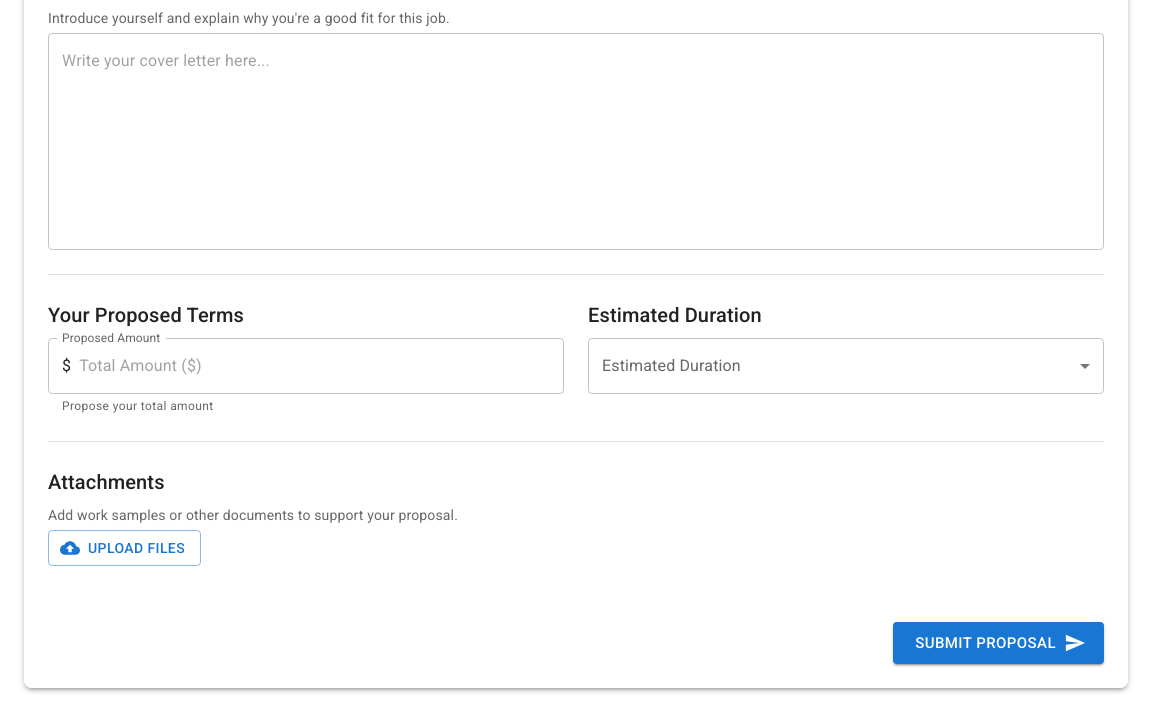
SubmitProposalPage Component › validates form inputs
(page scrolled)
# Try to submit the form without filling in the fields
Click the button "Submit Proposal" at (999, 643), box [893,622,1104,664]
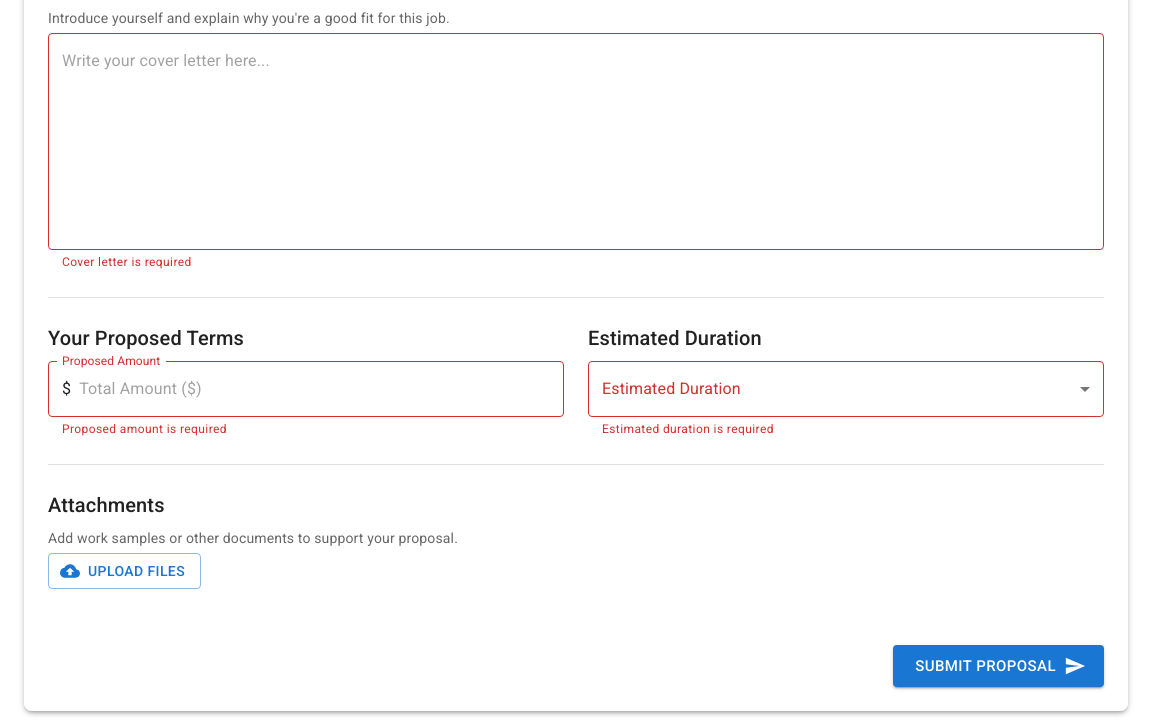
Expected: the text "Cover letter is required" is shown, [62,255,192,269]
Expected: the text "Proposed amount is required" is shown, [62,422,227,436]
Expected: the text "Estimated duration is required" is shown, [602,422,774,436]
# Fill in the cover letter with insufficient text
Type "Short cover letter" into the text box with placeholder "Write your cover letter here..." at (576, 141), box [62,49,1090,233]
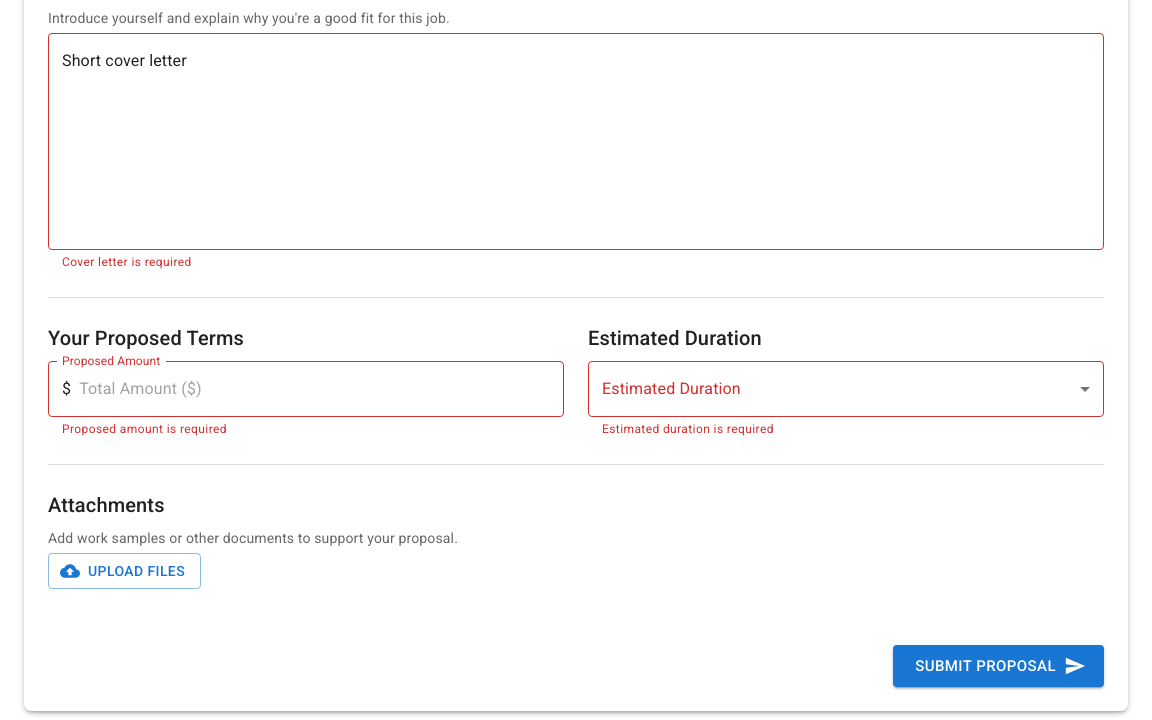
# Try to submit the form again
Click the button "Submit Proposal" at (999, 666), box [893,645,1104,687]
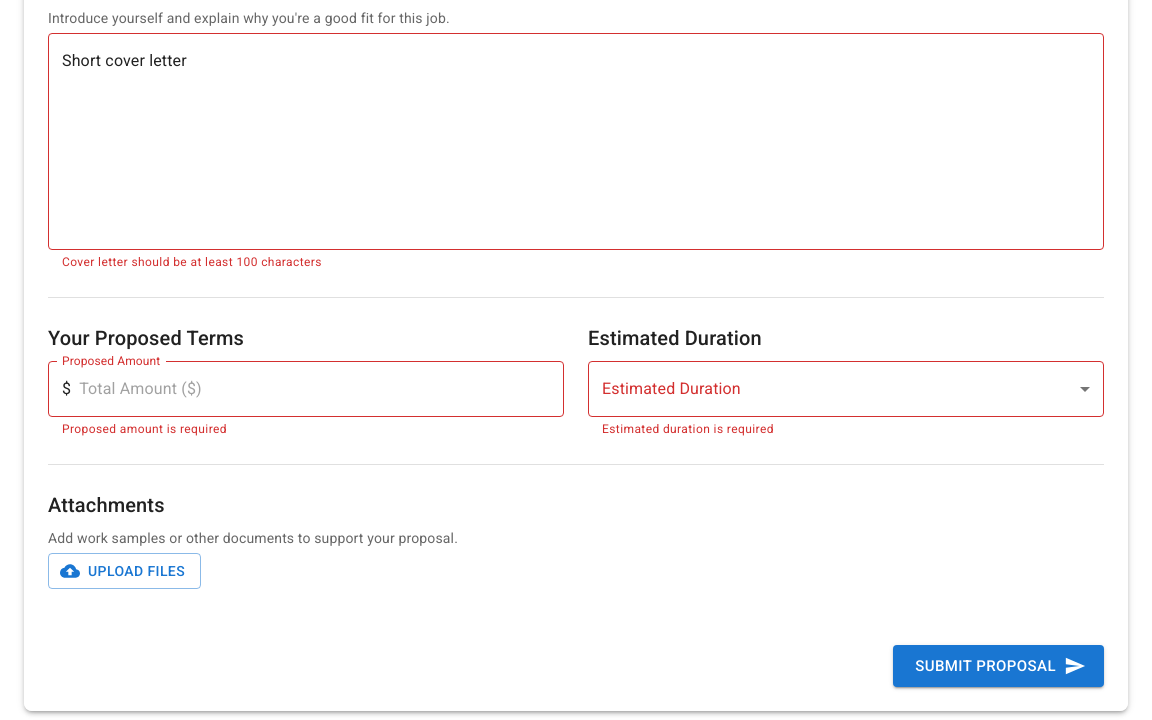
Expected: the text "Cover letter should be at least 100 characters" is shown, [62,255,322,269]
